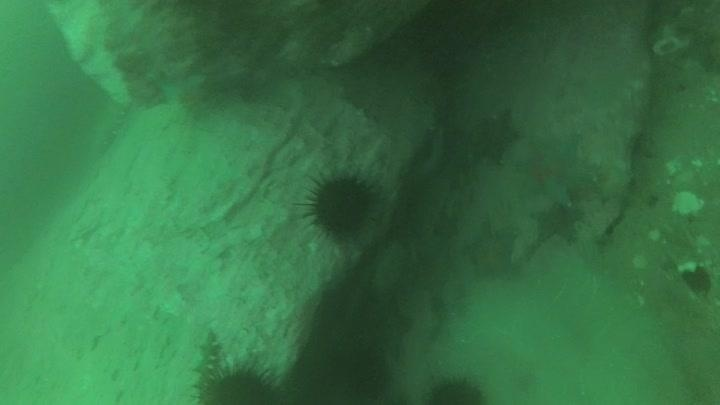echinus: (301, 168, 380, 242), (193, 360, 286, 404), (425, 373, 488, 405)
holothurian: (187, 327, 225, 403), (88, 97, 131, 158)
starfish: (520, 132, 612, 207), (460, 219, 522, 282), (465, 104, 522, 166), (156, 69, 215, 122), (532, 199, 584, 244)
